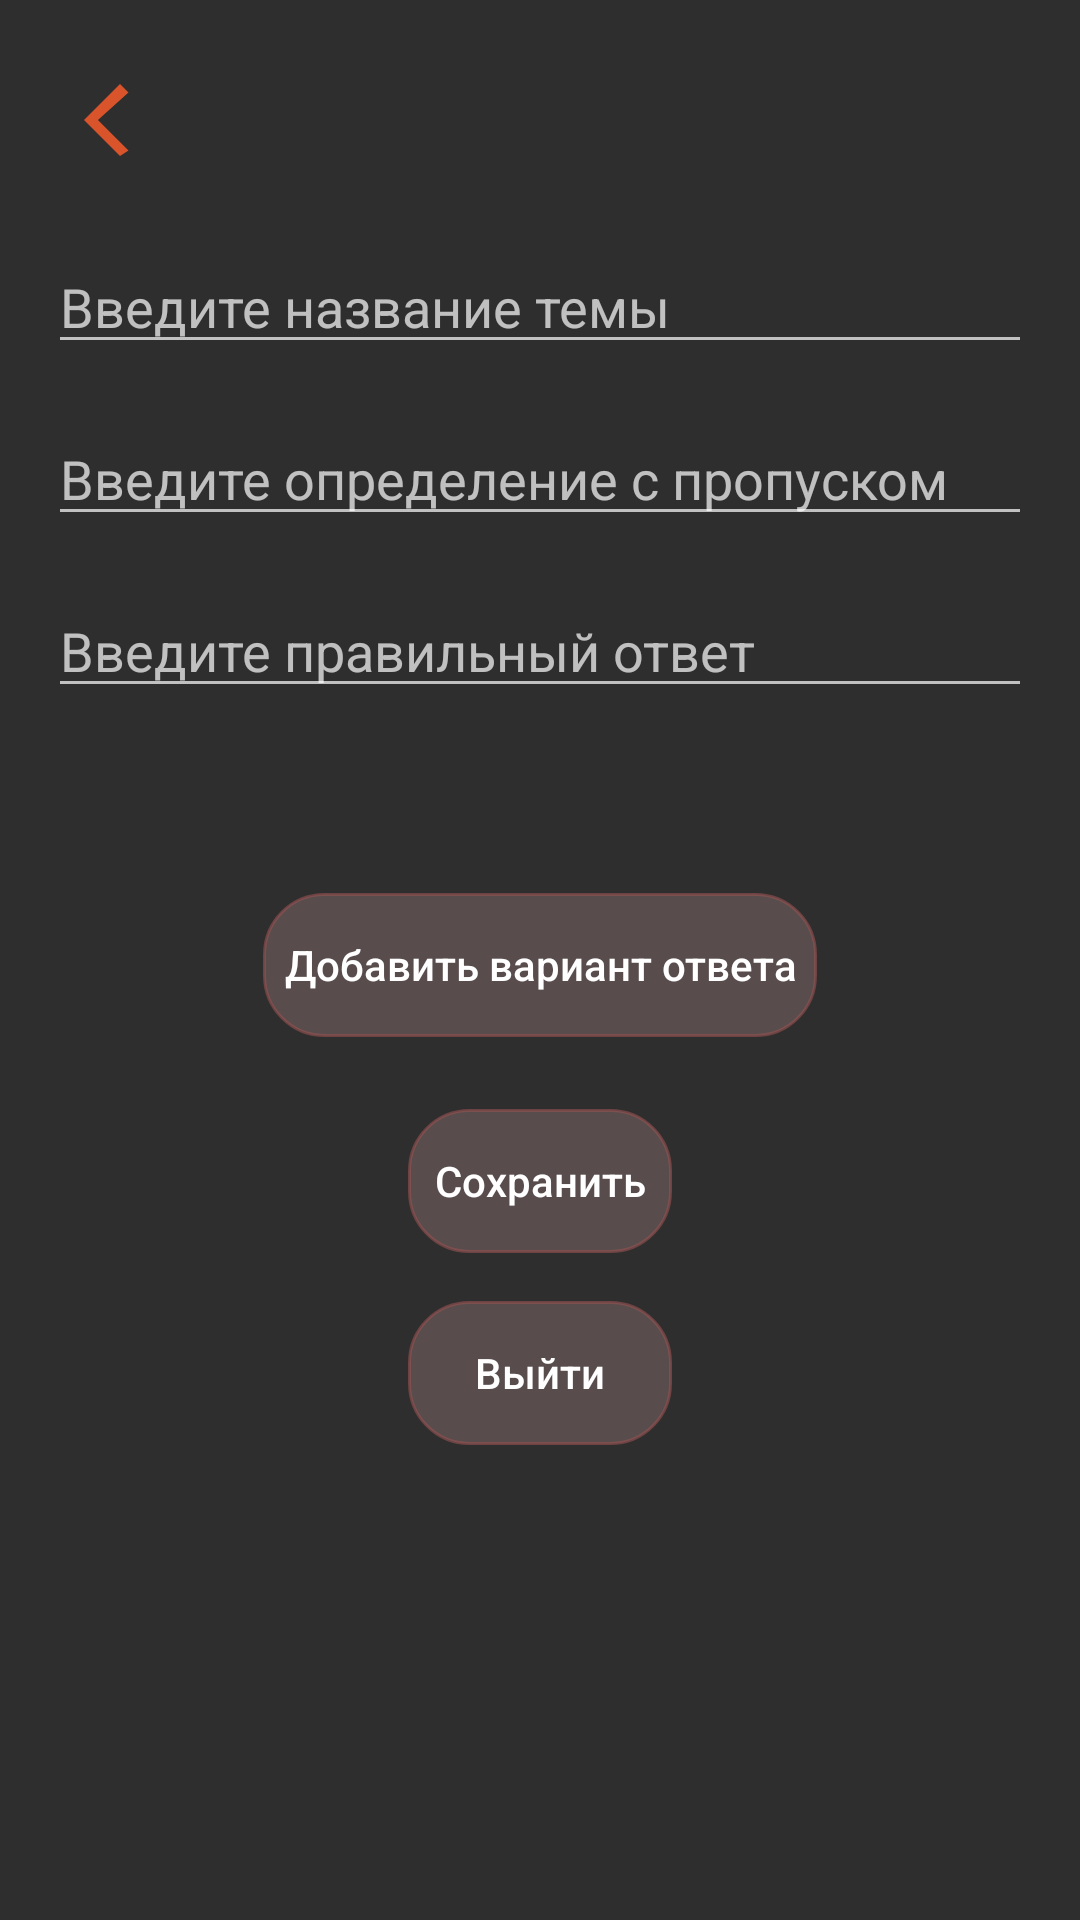

Icon bounding boxes for this 1080 x 1920 phone screenshot, format (x1, y1, x2, y2):
back: (84, 84, 129, 156)
